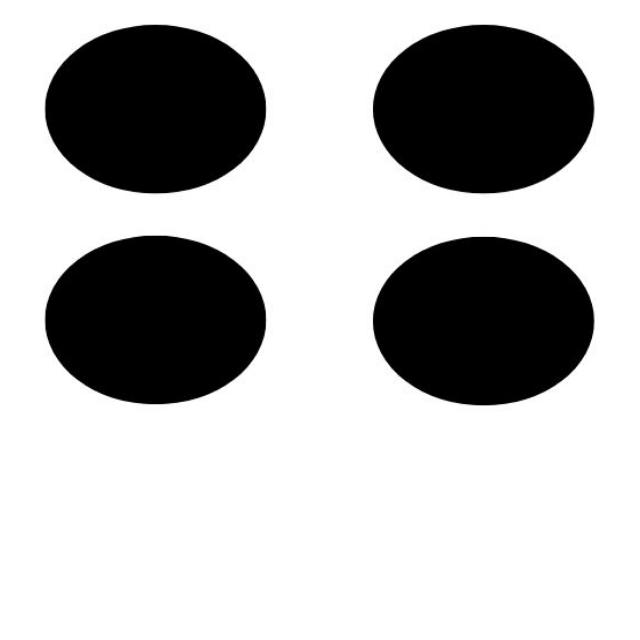letter_g: (43, 25, 595, 618)
